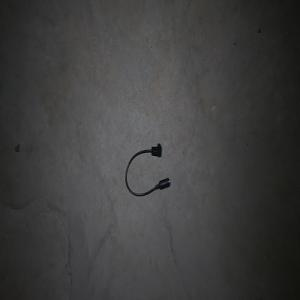Wire: (125, 143, 170, 196)
